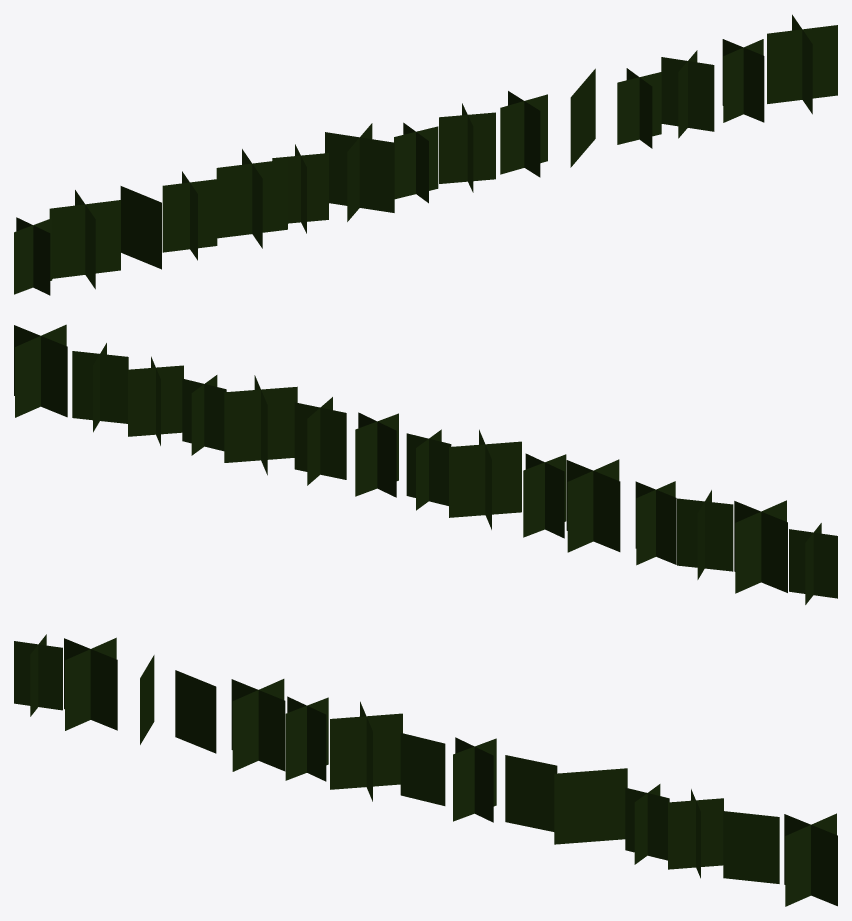
File: RT PlantMOB for PI V04.FBX
3 views of the same model, one above another, from view 1: azimuth 30°, elevation 25°; view 2: azimuth 150°, elevation 25°; view 3: azimuth 330°, elevation 25° (orthographic).
Visible parts, largest first — view 1: RT PlantMOB for PI V04; view 2: RT PlantMOB for PI V04; view 3: RT PlantMOB for PI V04.
Boxes of the visible parts, x1,y1,x2,y2 form: RT PlantMOB for PI V04: (14,14,837,295); RT PlantMOB for PI V04: (14,324,837,604); RT PlantMOB for PI V04: (14,634,837,906).
Size of the model in its own units: 36.49 by 2.99 by 2.76.
